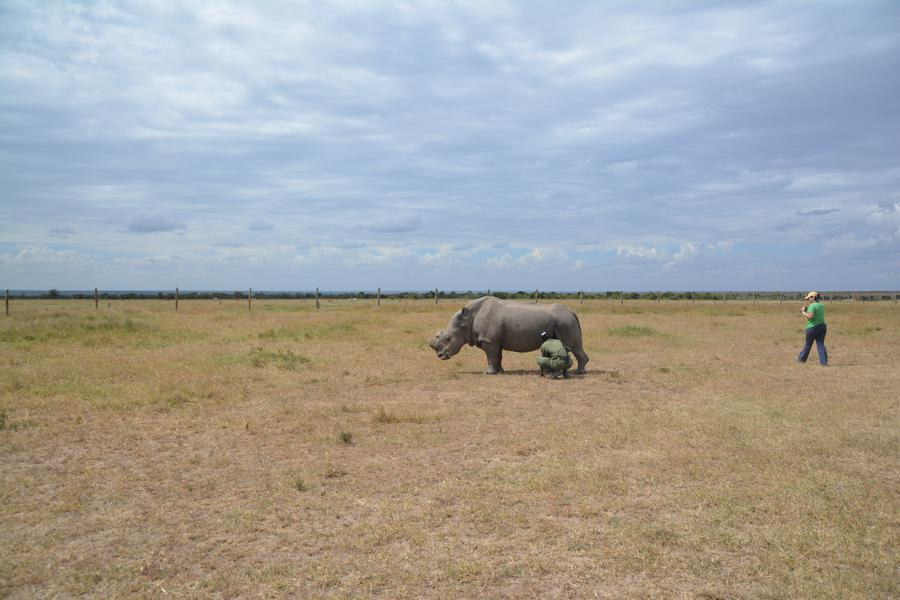rhino: (443, 297, 591, 371)
